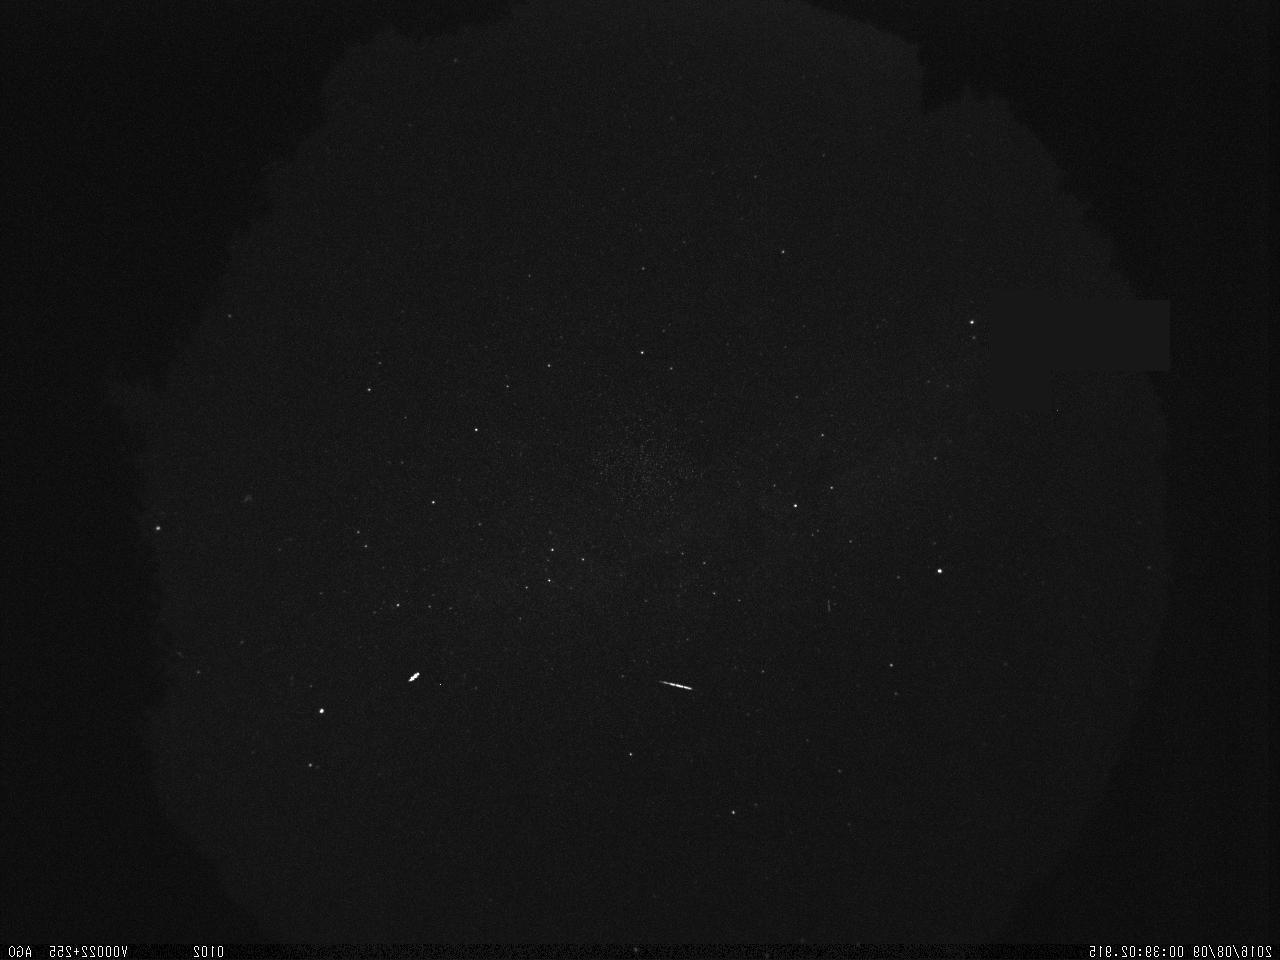meteor: (652, 676, 706, 698)
